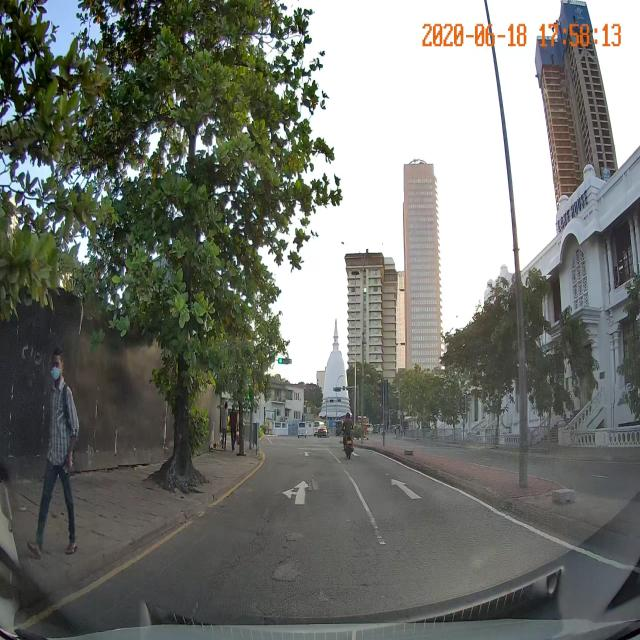forward_lft: (200, 477, 374, 510), (212, 484, 372, 504), (219, 478, 362, 494)
